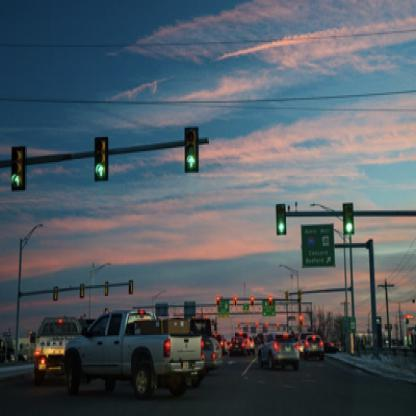trafficlight: (181, 124, 198, 174), (92, 132, 108, 180), (9, 143, 24, 192), (271, 199, 286, 234), (341, 196, 353, 231)
